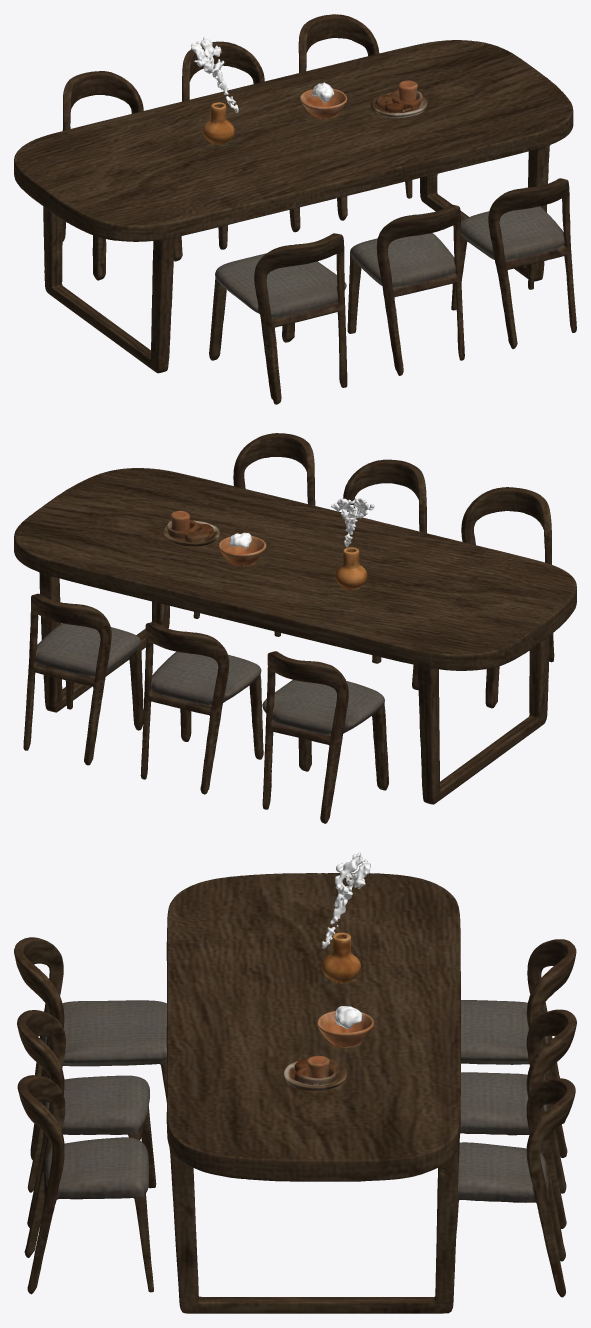
File: EuI_ddmjQM5-VauSD3tGr.glb
3 views of the same model, one above another, from view 1: azimuth 30°, elevation 25°; view 2: azimuth 150°, elevation 25°; view 3: azimuth 270°, elevation 25° (orthographic). The views are drawn at different scales.
Parts seen in each view (by area): view 1: world; view 2: world; view 3: world.
Part boxes in pixels (left/top/right/bottom): world: left=14, top=14, right=576, bottom=404; world: left=14, top=433, right=576, bottom=823; world: left=14, top=852, right=576, bottom=1313.
Bounding box in the file's own units: 1 × 0.4897 × 0.8287.
1 material, 1 textured.
